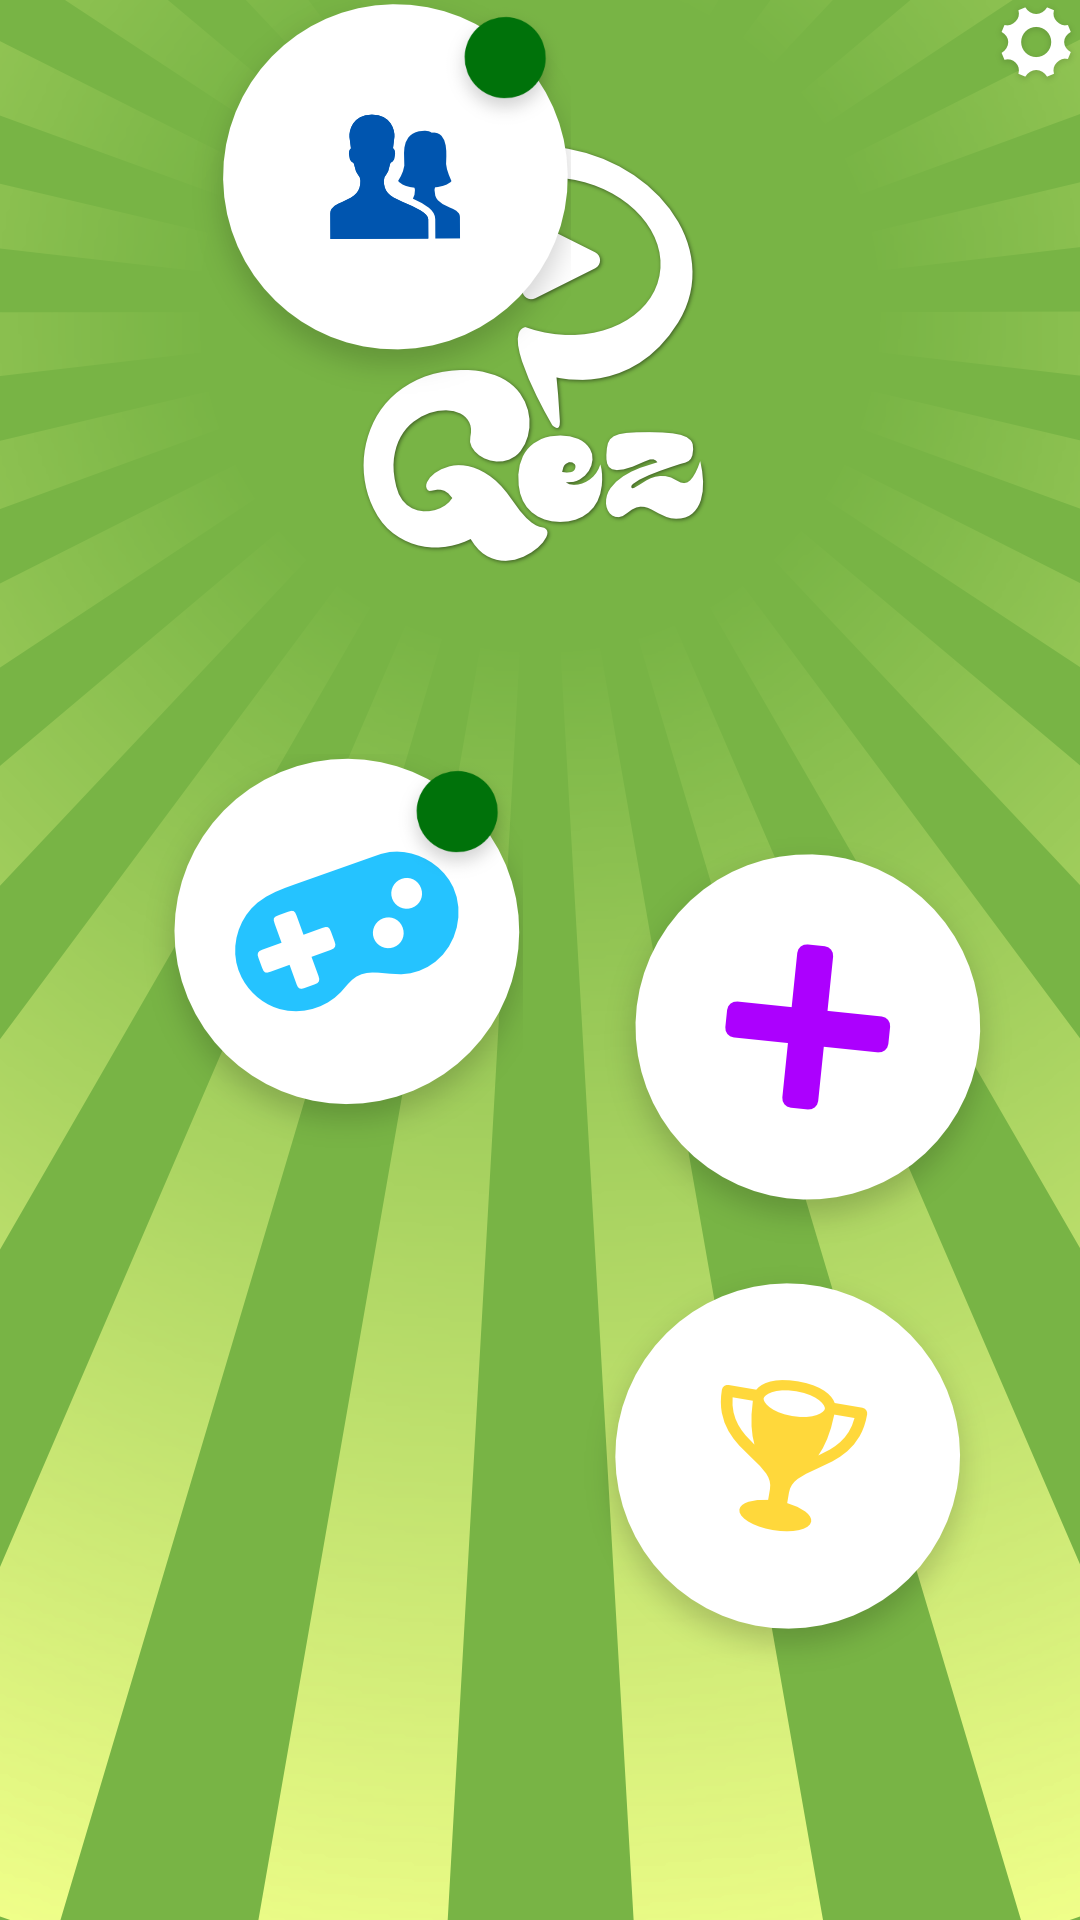

Screen size 1080 x 1920. Icon name, then its center in pixels as (x,y):
settings: (1036,42)
